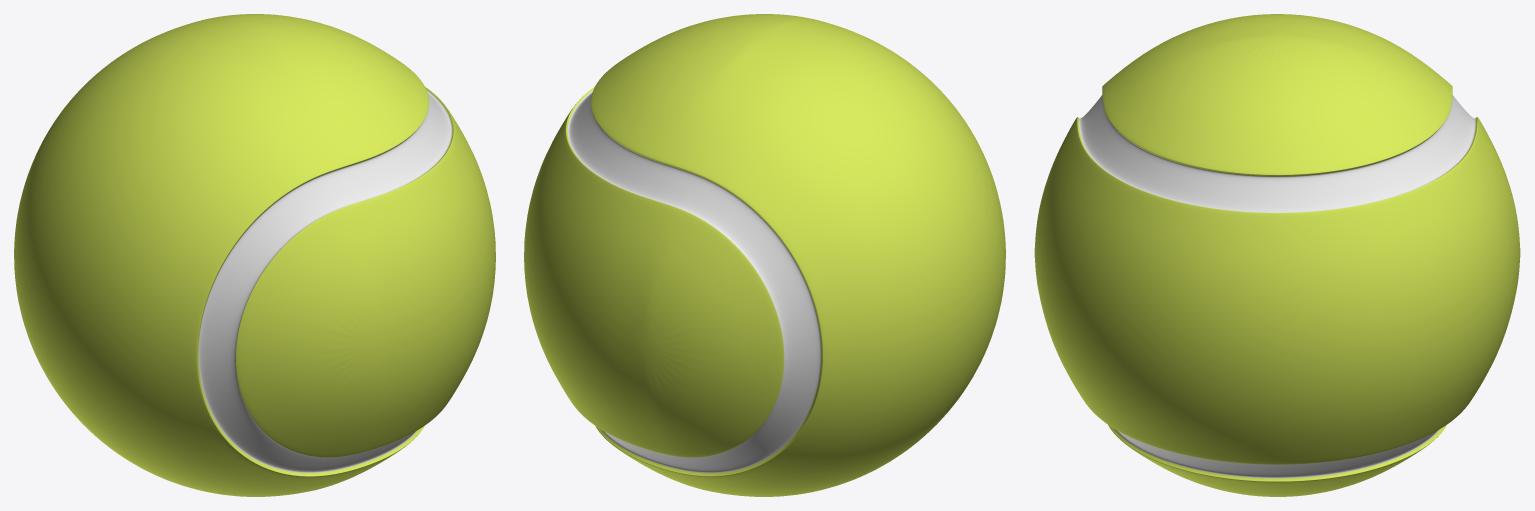
Rendered from pelota de tenis.fbx.
The picture shows the model from 3 angles, left to right: view 1: azimuth 30°, elevation 25°; view 2: azimuth 150°, elevation 25°; view 3: azimuth 270°, elevation 25°; orthographic projection.
Parts seen in each view (by area): view 1: pwlota de tenis.; view 2: pwlota de tenis.; view 3: pwlota de tenis..
Boxes of the visible parts, left/top/right/bottom form: pwlota de tenis.: left=14, top=14, right=495, bottom=496; pwlota de tenis.: left=524, top=14, right=1005, bottom=496; pwlota de tenis.: left=1034, top=14, right=1520, bottom=496.
Size of the model in its own units: 33.29 by 33.59 by 33.59.
